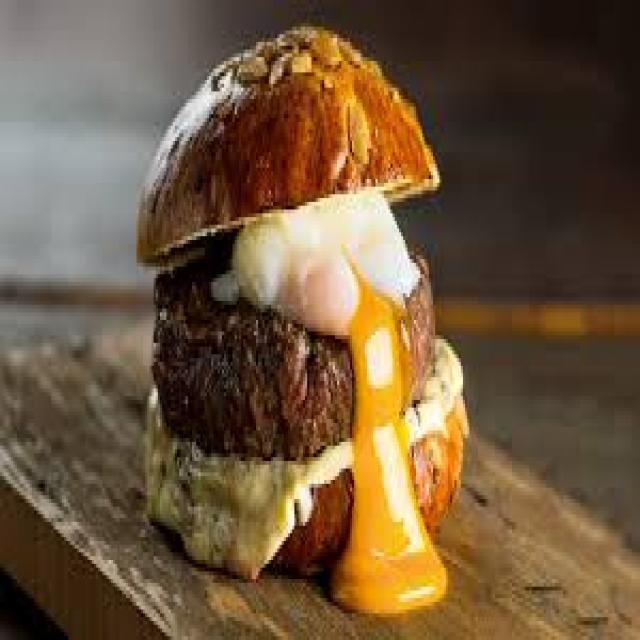Wet Waste: (155, 28, 467, 637)
